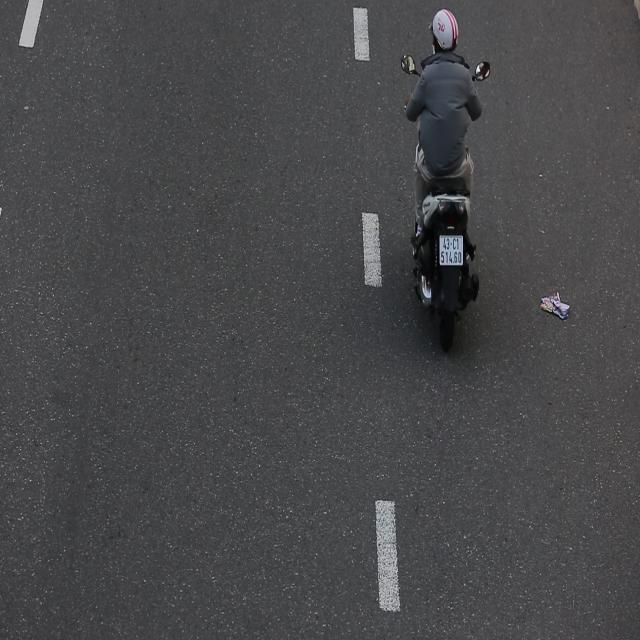motorbike: (396, 7, 492, 358)
